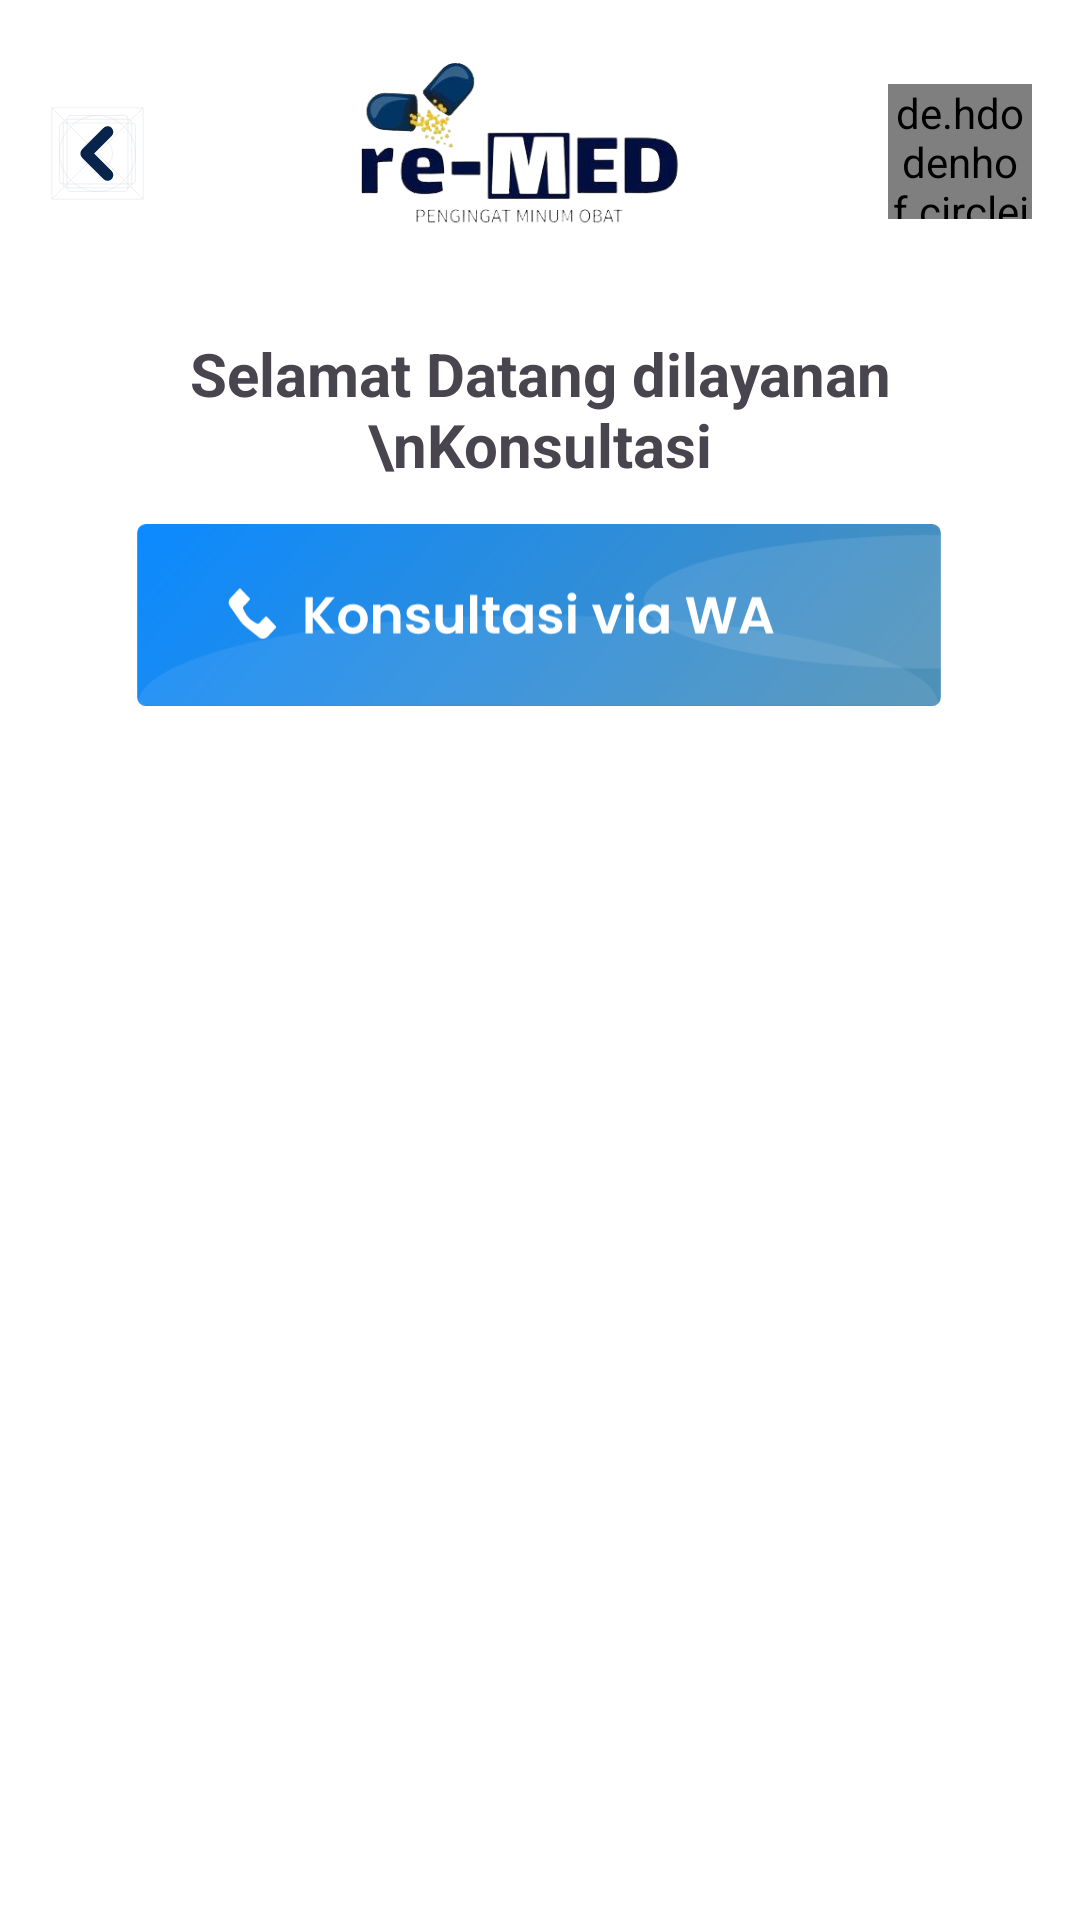

Locate icon controls on the screen. Image size 1080px x 1920px, boxes as (x1, y1, x2, y2).
back: (59, 115, 136, 192)
